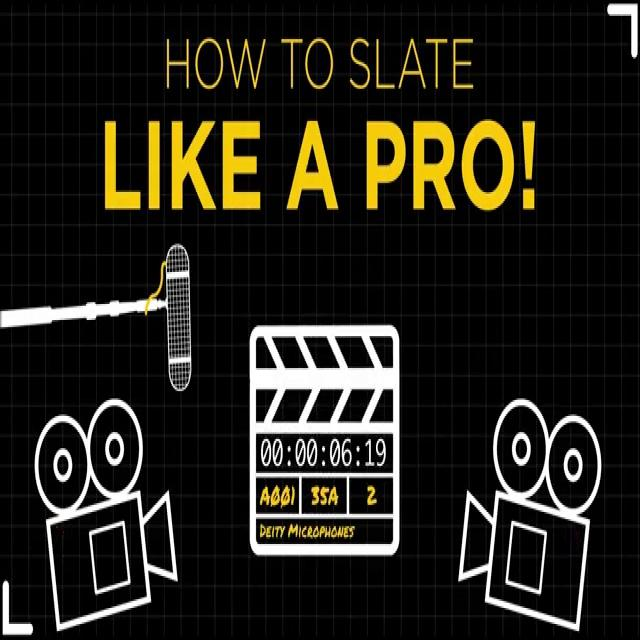Clapperboard: (250, 325, 399, 555)
